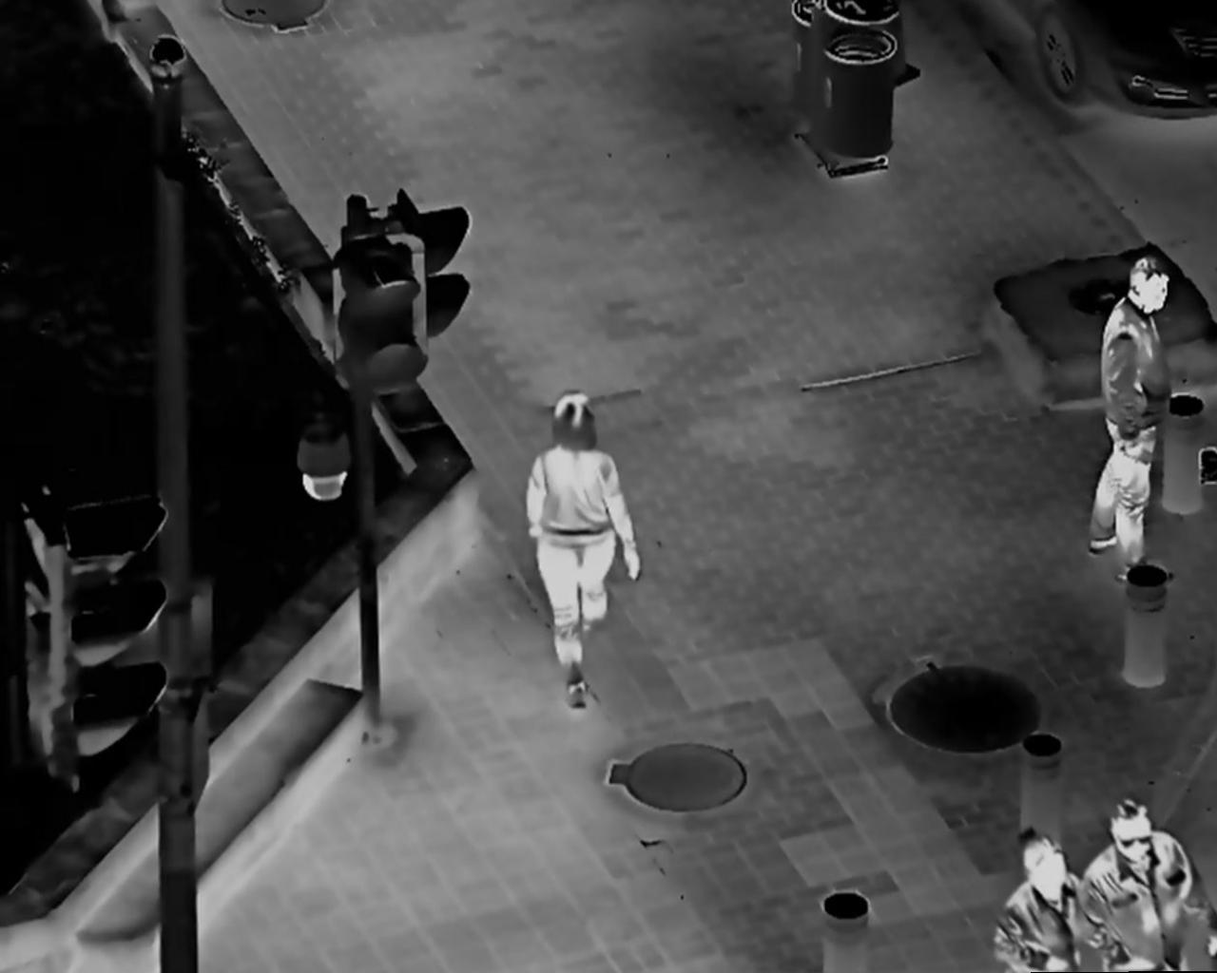person: (514, 383, 656, 726), (1083, 252, 1183, 592), (1070, 787, 1217, 963), (980, 826, 1121, 973)
